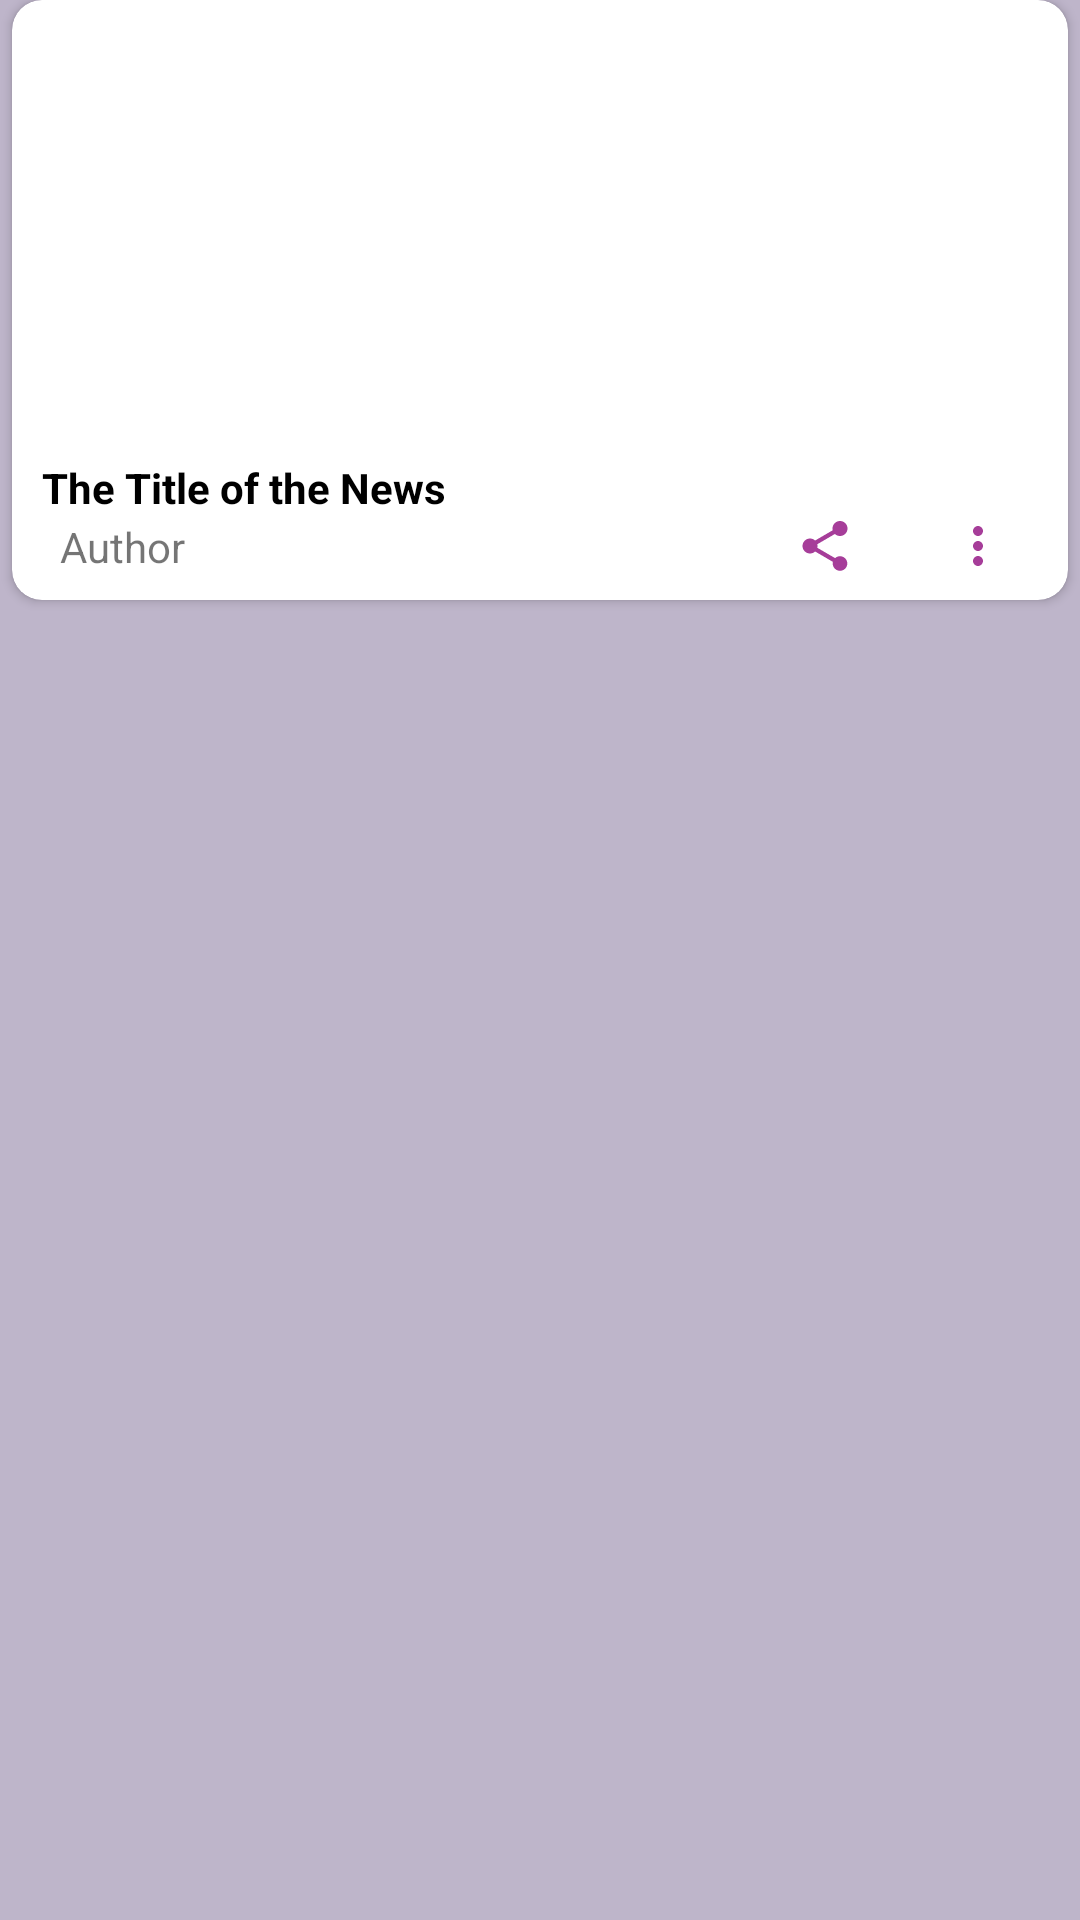

Named icons in this screenshot (1080w x 1920h) and their centers, (x=x, y=y):
more: (x=978, y=546)
share: (x=825, y=546)
